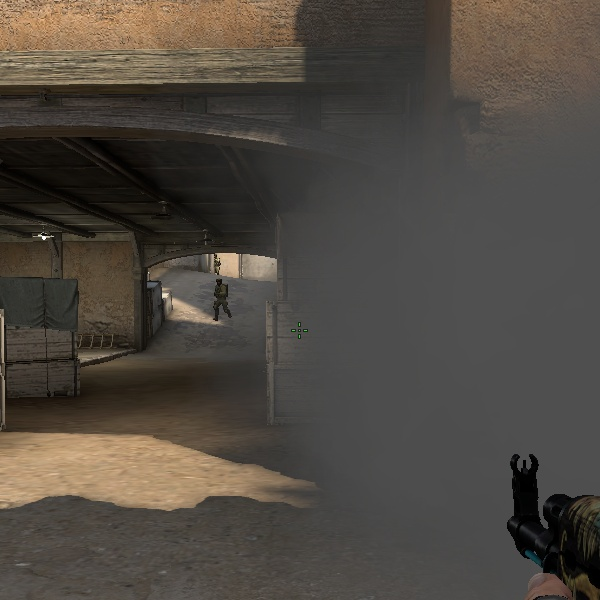ct_body: (207, 274, 231, 321)
